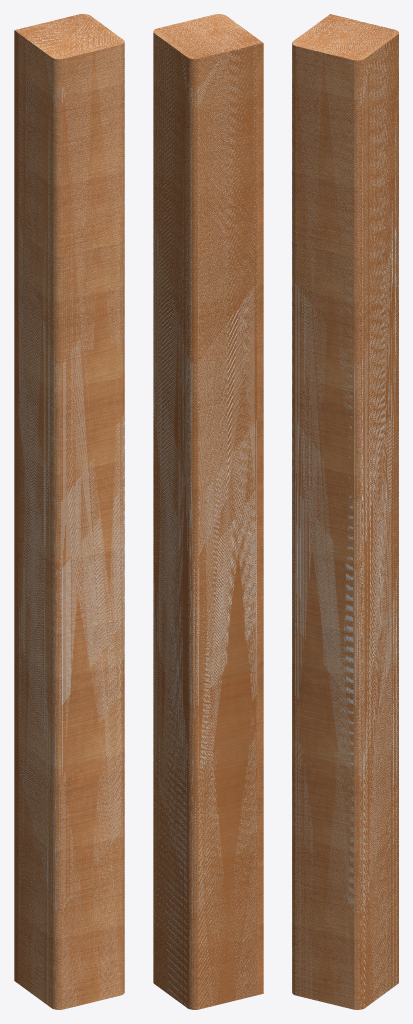
File: original-21.obj
3 views of the same model, side by side, from view 1: azimuth 30°, elevation 25°; view 2: azimuth 210°, elevation 25°; view 3: azimuth 330°, elevation 25° (orthographic).
Parts seen in each view (by area): view 1: End_Table_Leg__25_1_4_2/End_Table_Leg__25_1_4_/mesh25/mesh25-geo; view 2: End_Table_Leg__25_1_4_2/End_Table_Leg__25_1_4_/mesh25/mesh25-geo; view 3: End_Table_Leg__25_1_4_2/End_Table_Leg__25_1_4_/mesh25/mesh25-geo.
Boxes of the visible parts, box(x1,y1,x2,y2) form: End_Table_Leg__25_1_4_2/End_Table_Leg__25_1_4_/mesh25/mesh25-geo: box(14, 14, 124, 1009); End_Table_Leg__25_1_4_2/End_Table_Leg__25_1_4_/mesh25/mesh25-geo: box(153, 14, 263, 1009); End_Table_Leg__25_1_4_2/End_Table_Leg__25_1_4_/mesh25/mesh25-geo: box(292, 14, 398, 1009).
Size of the model in its own units: 0.0922 by 1.16 by 0.0923.
